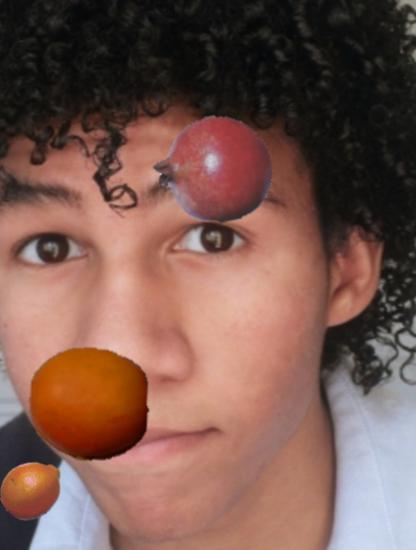Apricot: (27, 342, 151, 466)
Pomegranate: (153, 110, 273, 230)
Tangelo: (0, 457, 66, 523)
